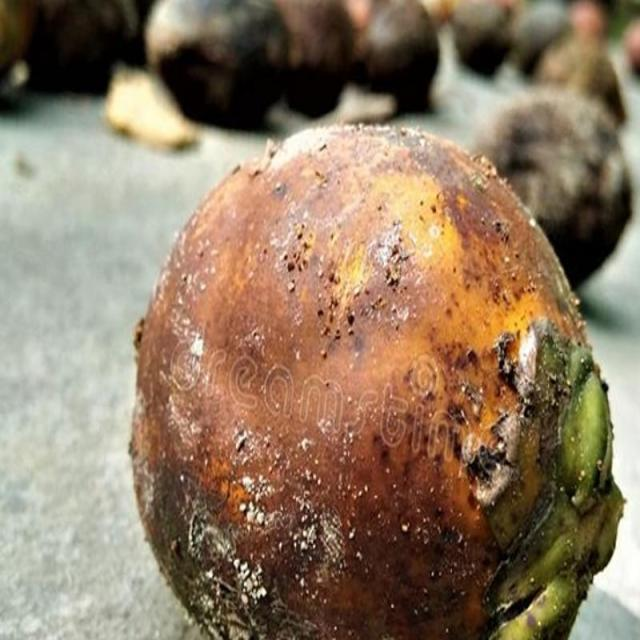damaged: (127, 127, 626, 639)
